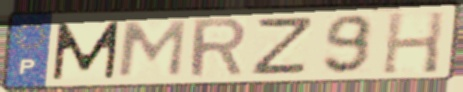9: (320, 13, 376, 76)
H: (378, 9, 448, 76)
M: (114, 18, 190, 79), (50, 19, 123, 82)
R: (188, 15, 249, 80)
Z: (247, 14, 318, 77)
